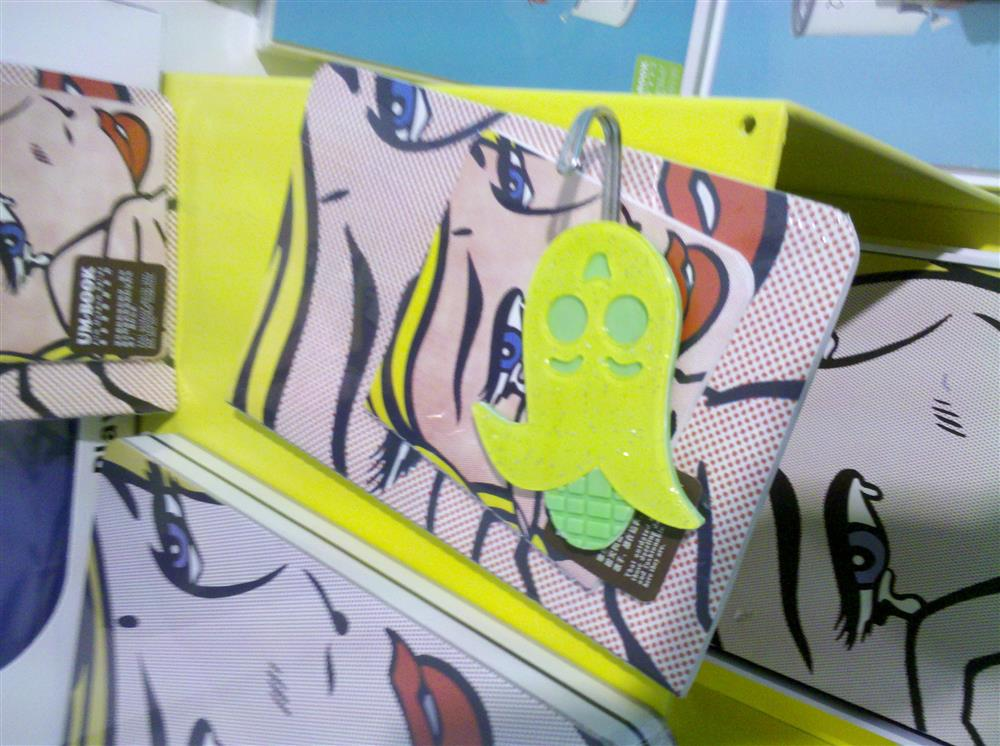Corn_Shape_Pothook: (472, 219, 702, 551)
